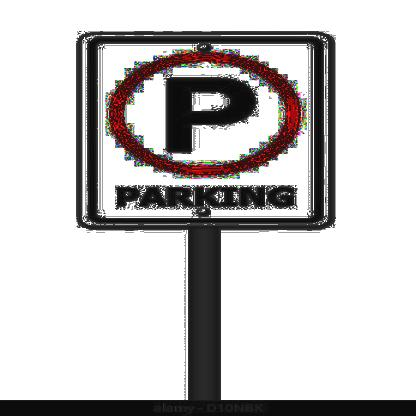Parking: (69, 38, 331, 225)
